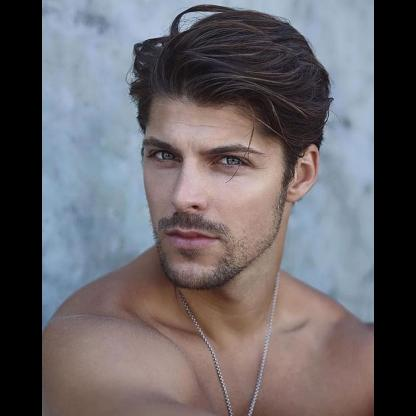Male: (137, 93, 316, 283)
